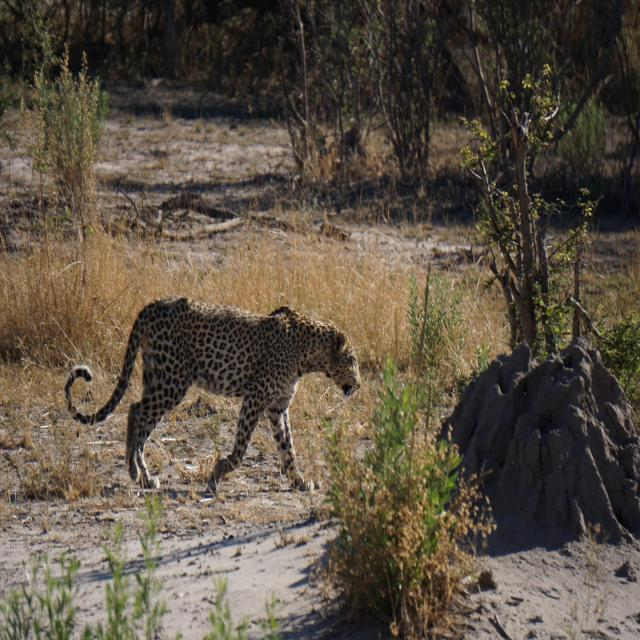Leopard: (64, 290, 359, 498)
